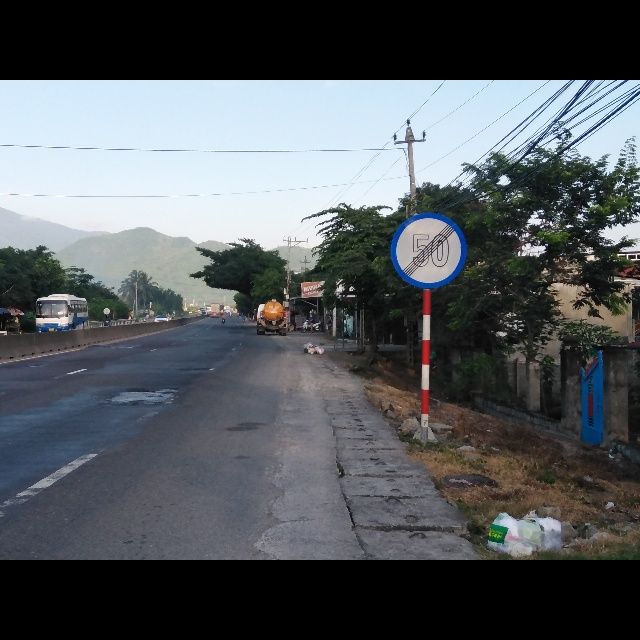Hết hạn chế tốc độ tối đa 50km/h: (389, 212, 468, 289)
